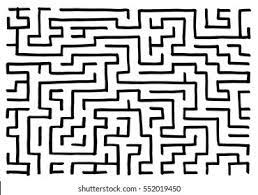maze: (1, 9, 251, 176)
